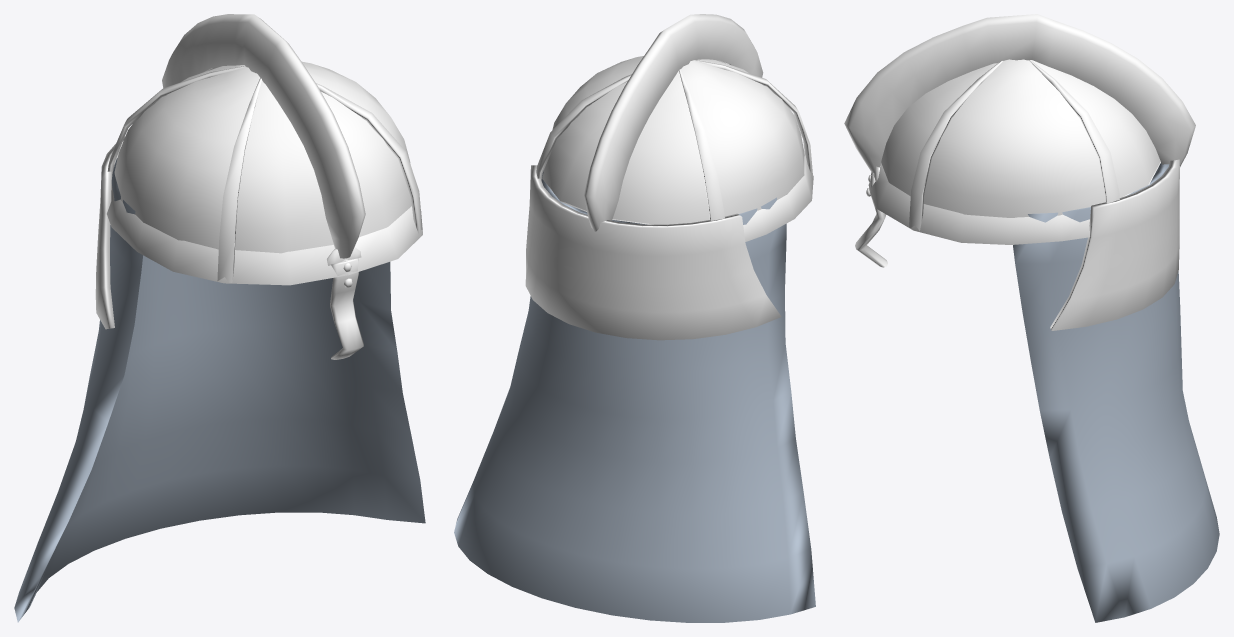
File: helm-huscarl-ridge.glb
The picture shows the model from 3 angles, left to right: view 1: azimuth 30°, elevation 25°; view 2: azimuth 150°, elevation 25°; view 3: azimuth 270°, elevation 25°; orthographic projection. The views are drawn at different scales.
Visible parts, largest first — view 1: helm-huscarl-ridge; view 2: helm-huscarl-ridge; view 3: helm-huscarl-ridge.
Boxes of the visible parts, x1,y1,x2,y2 form: helm-huscarl-ridge: (14,14,425,622); helm-huscarl-ridge: (454,14,815,622); helm-huscarl-ridge: (844,14,1219,622).
Bounding box in the file's own units: 0.3753 × 0.5125 × 0.3352.
